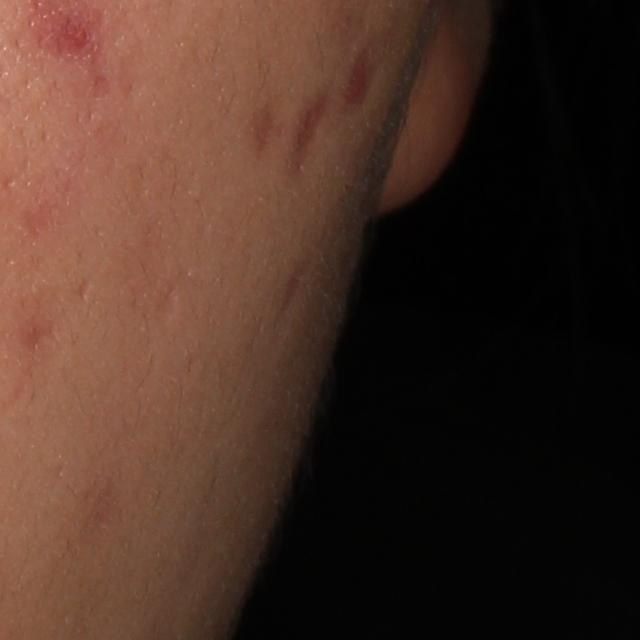atrophic_scar: (266, 246, 310, 329), (291, 89, 328, 176), (154, 269, 183, 336)
